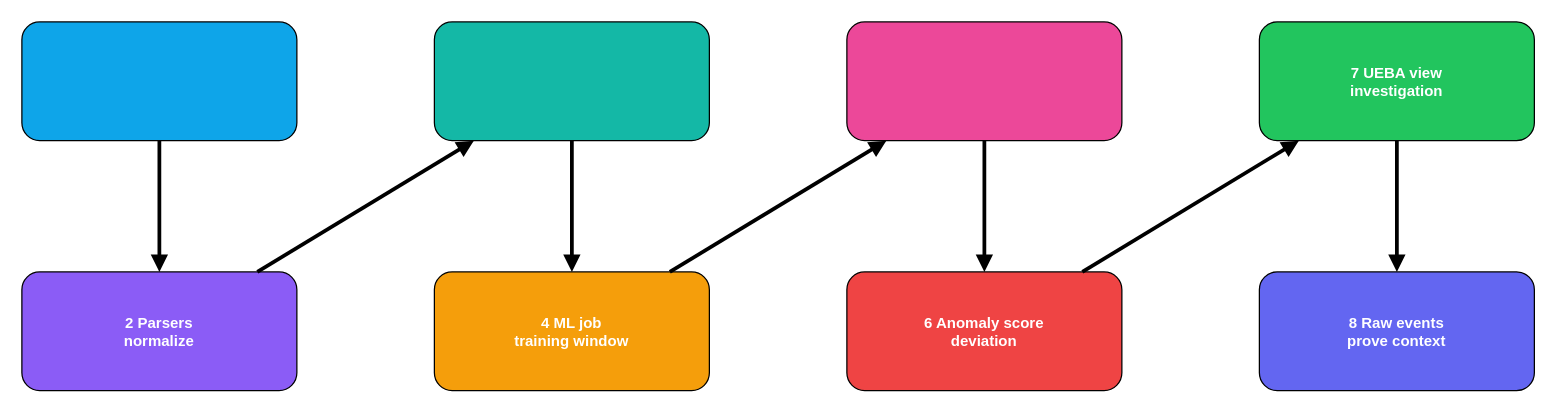
Some shapes in this 1556 by 413 pixel diagram are drawn without their labels. Here are the shapes that lost their labels. From the top down, the box of each, then its label:
(21, 21, 297, 141): 1 Event sources user/entity activity
(433, 21, 709, 141): 3 Entity mapping stable identity
(846, 21, 1122, 141): 5 Behavior model peer/history
